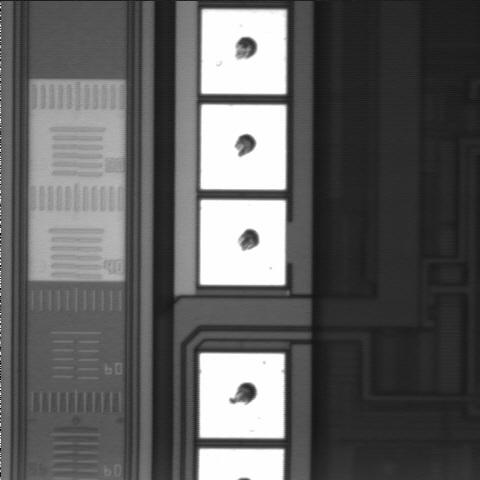pad: (201, 9, 286, 94), (201, 105, 286, 190), (200, 200, 285, 285), (200, 353, 284, 438)
